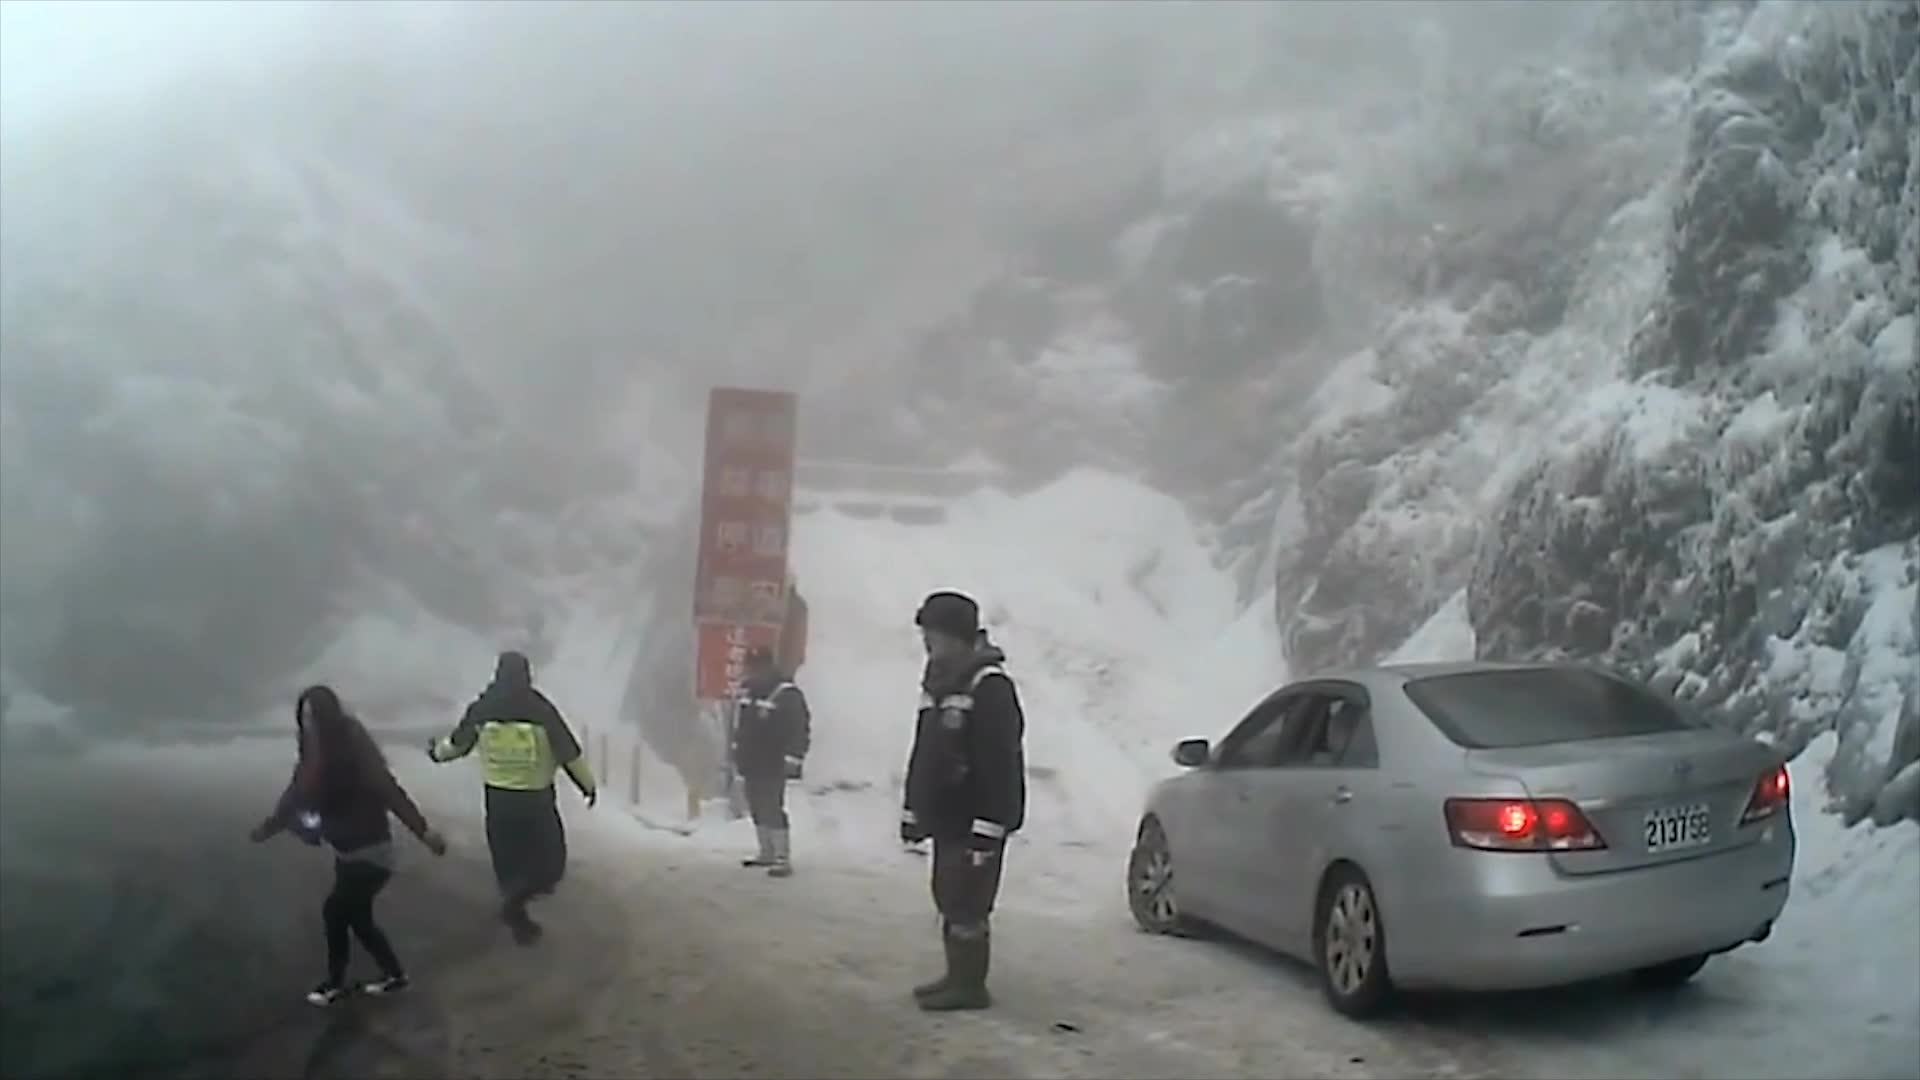pedestrian: (244, 680, 450, 1005), (887, 585, 1032, 1020), (437, 652, 599, 939), (729, 638, 818, 879), (746, 567, 812, 742)
vehicle: (1123, 659, 1798, 1015)
